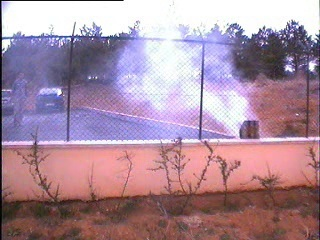smoke: (117, 22, 257, 136)
